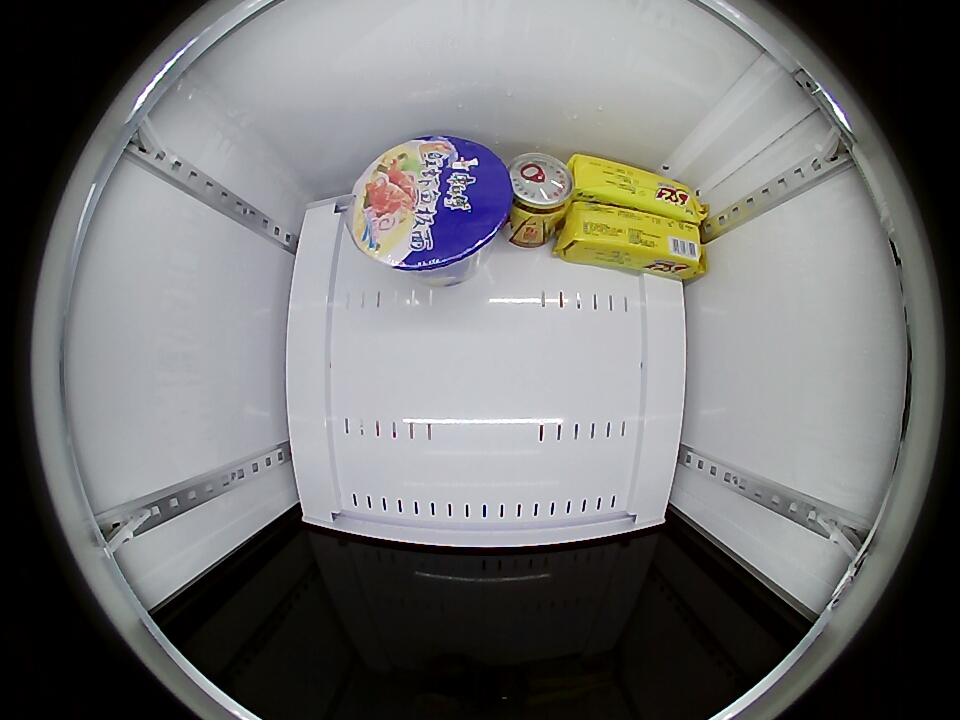3+2-2: (563, 201, 700, 275), (570, 154, 703, 221)
dongpeng: (506, 151, 573, 222)
xianxiayuban: (345, 136, 512, 274)
